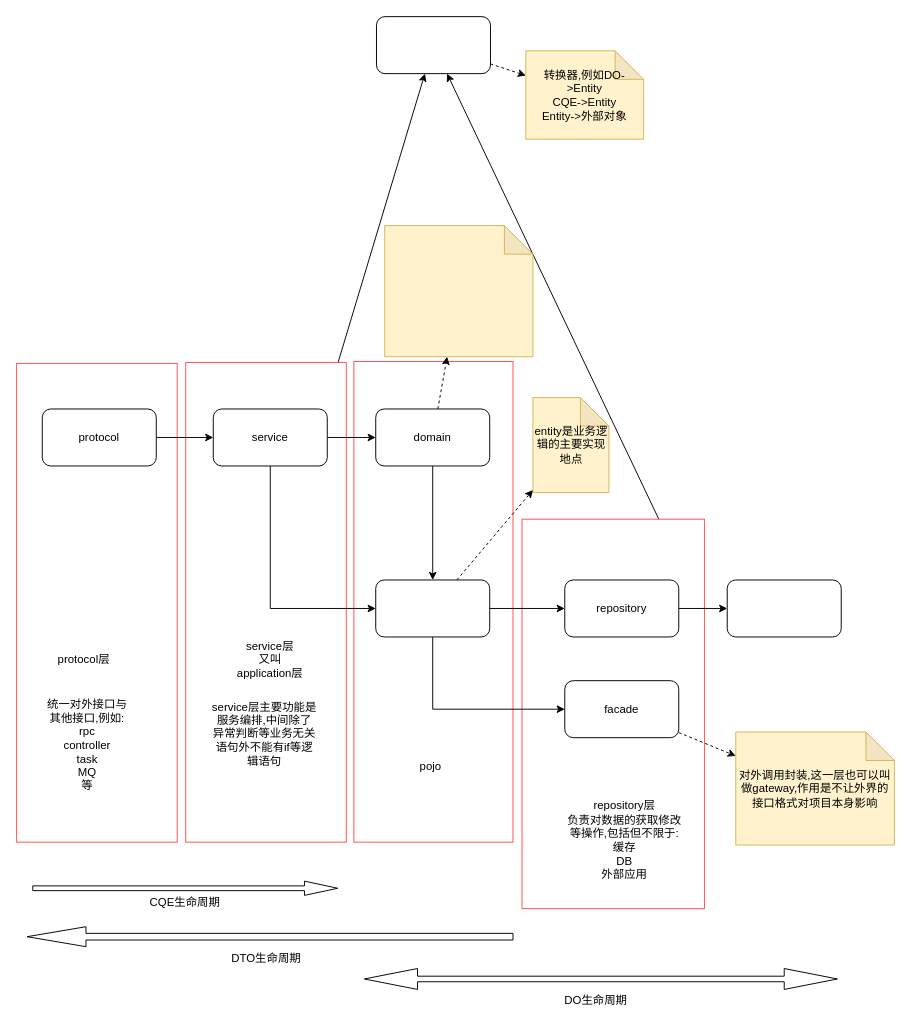
The diagram is 911 pixels wide and 1029 high, and some of its shapes have lost their labels. The shapes that lost their labels are listed below. From the top down, each one's centre as x and y in pixels, then its label:
the point at 433,45: assembler
the point at 458,291: 领域 此处写多个entity有关的逻辑,通常逻辑涉及多个entity.不方便写在任何一个entity中
the point at 432,608: entity
the point at 783,608: dao
